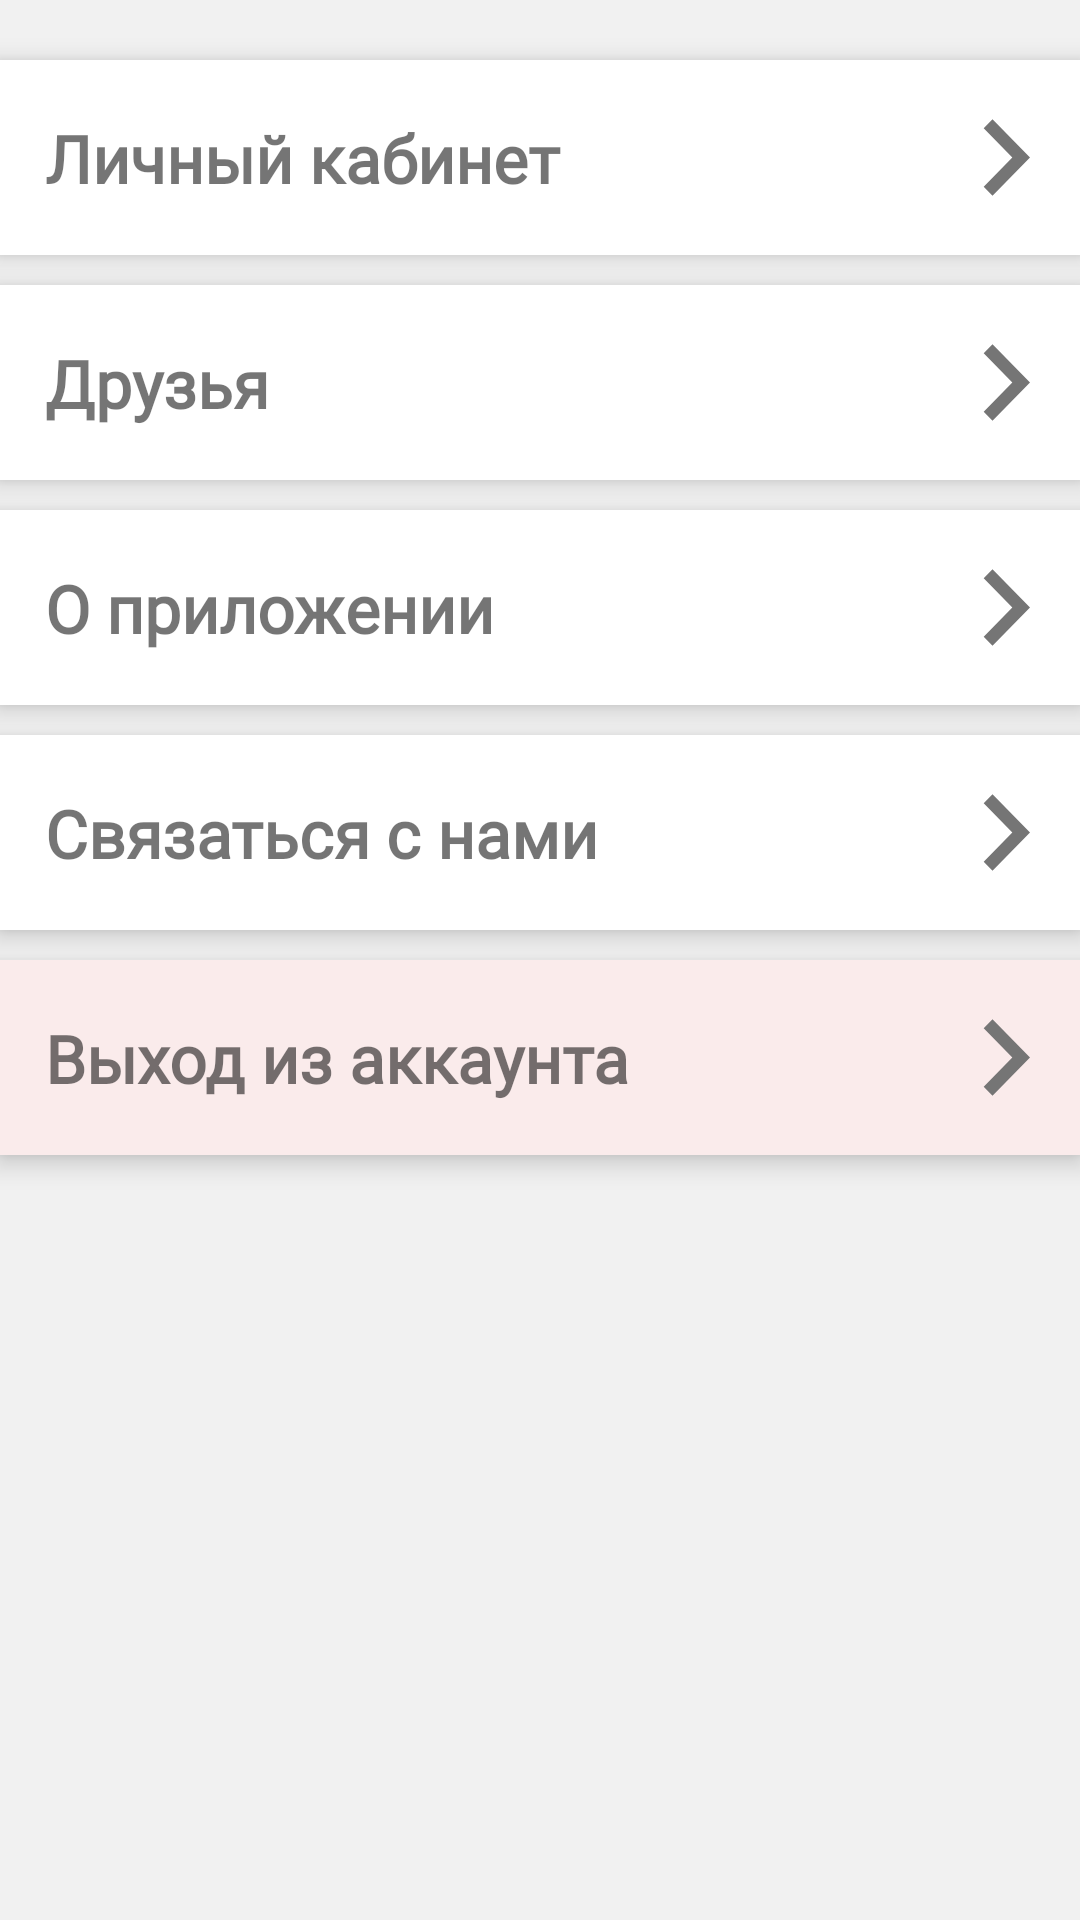

Named icons in this screenshot (1080*1920) and their centers, (x,y):
arrow right: (1007,157), (1007,382), (1007,607), (1007,832), (1007,1057)
